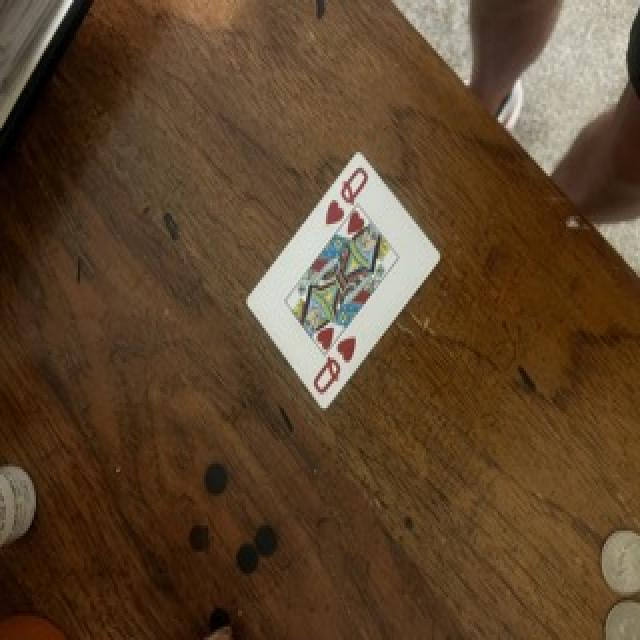Queen of hearts: (248, 153, 440, 408)
